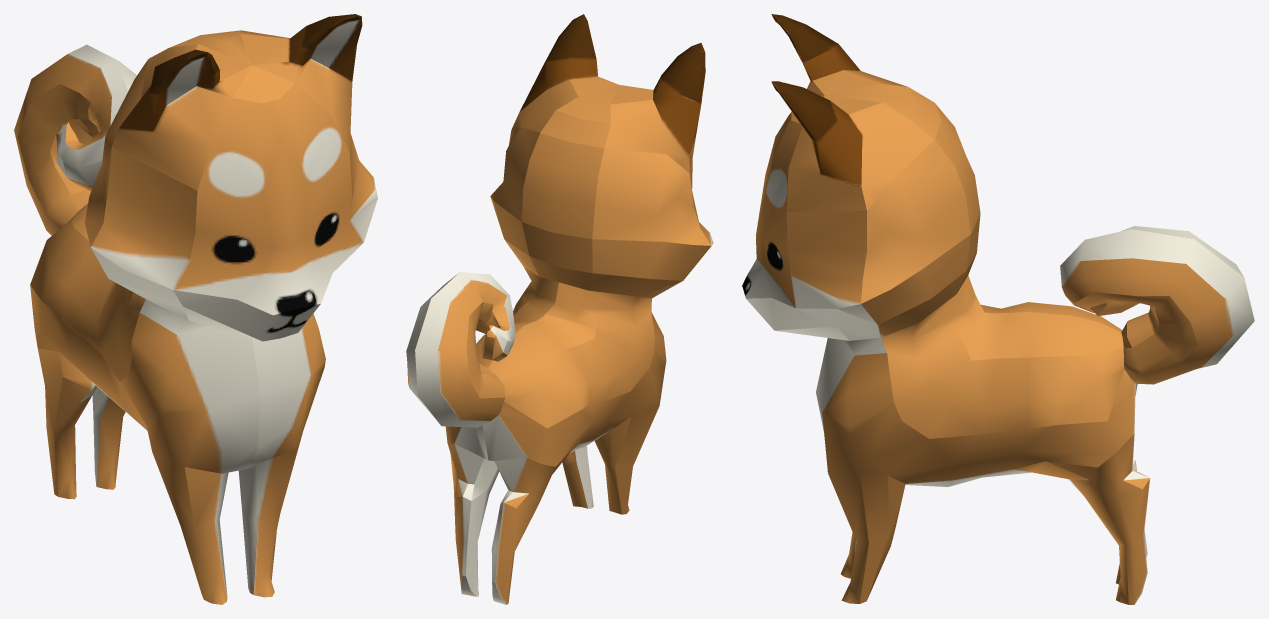
File: tailWagging_frame37.obj
The picture shows the model from 3 angles, left to right: view 1: azimuth 30°, elevation 25°; view 2: azimuth 150°, elevation 25°; view 3: azimuth 270°, elevation 25°; orthographic projection. The views are drawn at different scales.
Visible parts, largest first — view 1: newRigging:BodzL1; view 2: newRigging:BodzL1; view 3: newRigging:BodzL1.
Boxes of the visible parts, box(x1,y1,x2,y2) form: newRigging:BodzL1: box(14, 14, 377, 604); newRigging:BodzL1: box(406, 14, 713, 604); newRigging:BodzL1: box(742, 14, 1254, 604).
Bounding box in the file's own units: 3.91 × 7.94 × 6.81.
Materials: 1 (1 with a texture image).
